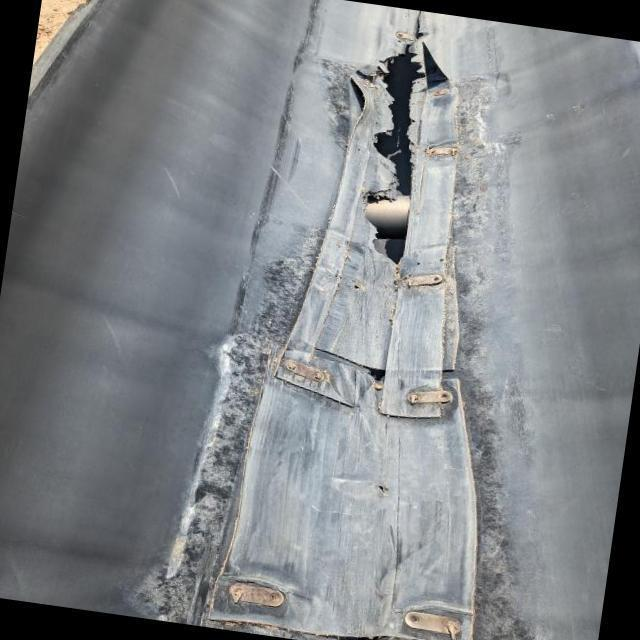Hole: (338, 9, 456, 272)
